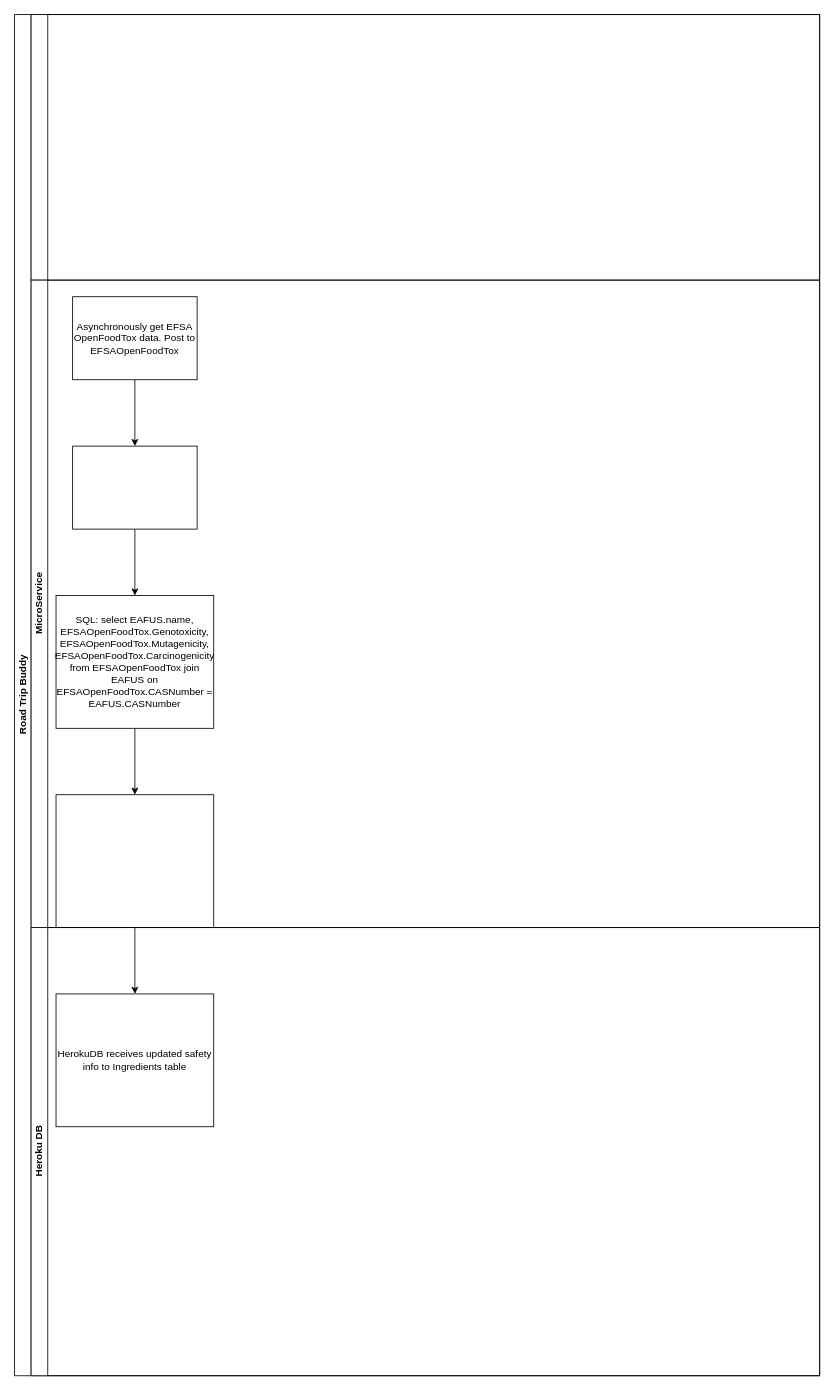
This 834x1390 diagram has some shape labels left out. The centre of each missing label's shape, as x and y in pixels:
Asynchronously get FDA EAFUS data. Post to EAFUS: (134,487)
Client: (425,147)
For each result POST to Ingredients table: (134,861)
